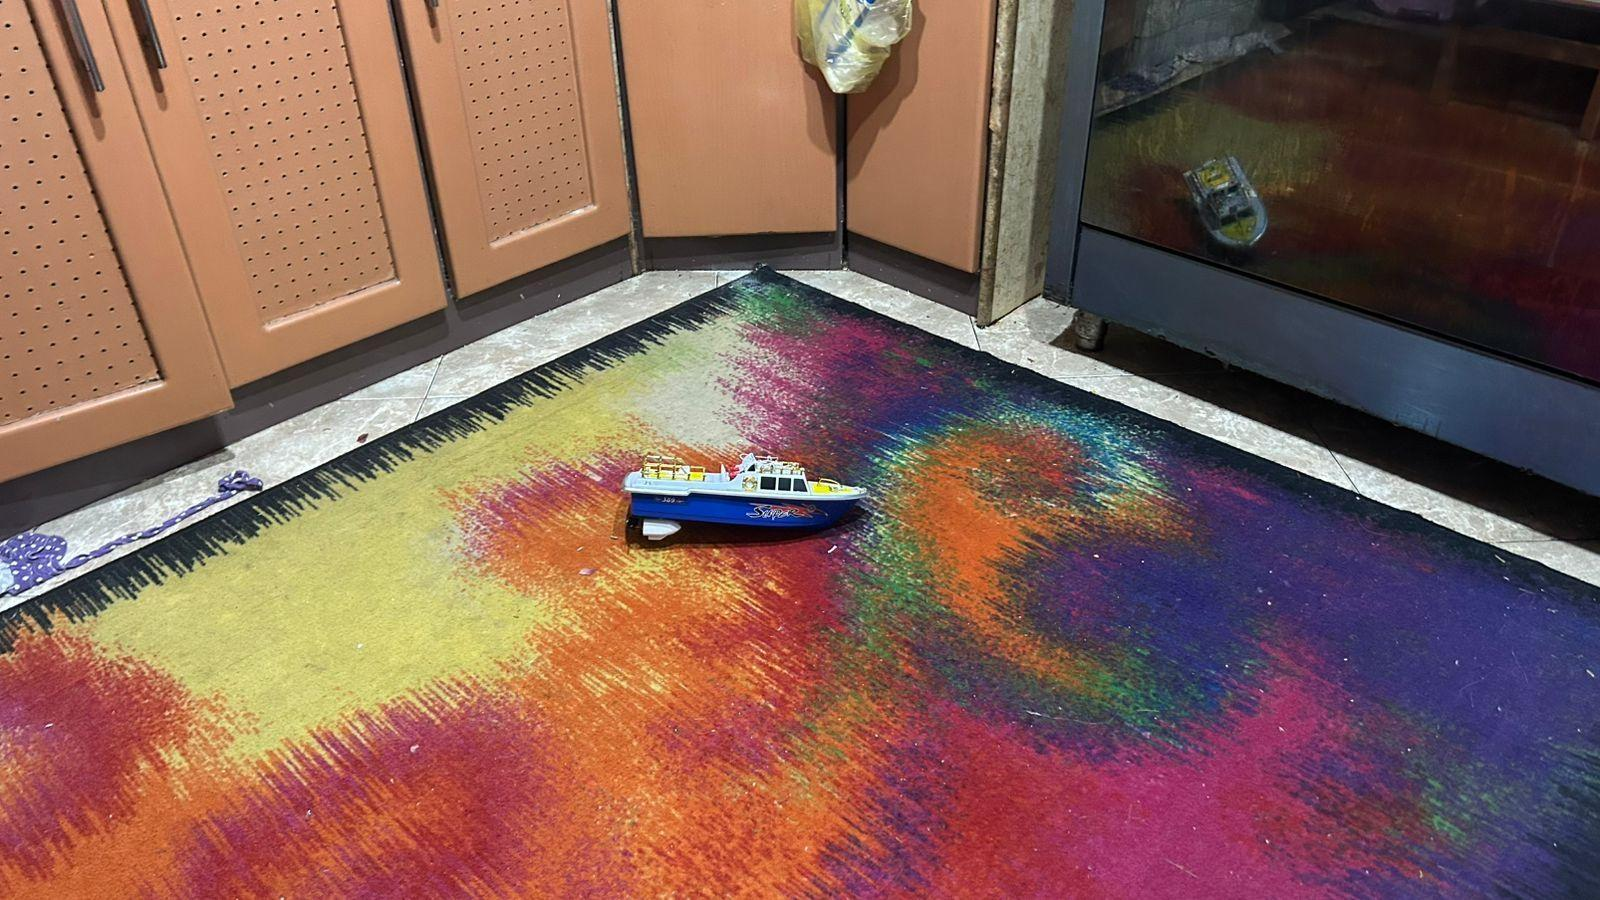Boat: (618, 444, 874, 562)
